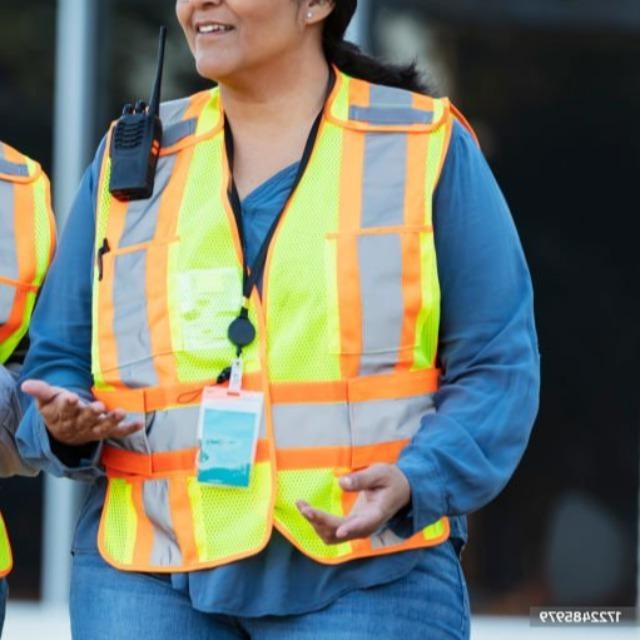Con_Chaleco: (82, 80, 473, 573)
